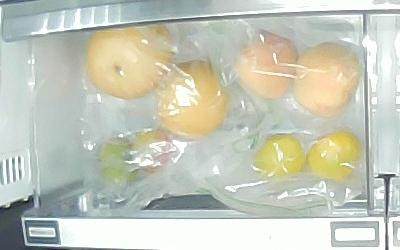peach_vinyl: (294, 41, 361, 117), (235, 32, 298, 100)
pear_vinyl: (86, 23, 173, 101), (154, 59, 230, 138)
tangerine_vinyl: (308, 131, 362, 181), (252, 134, 307, 177)
tomato_vinyl: (98, 135, 137, 187), (134, 130, 170, 172)
